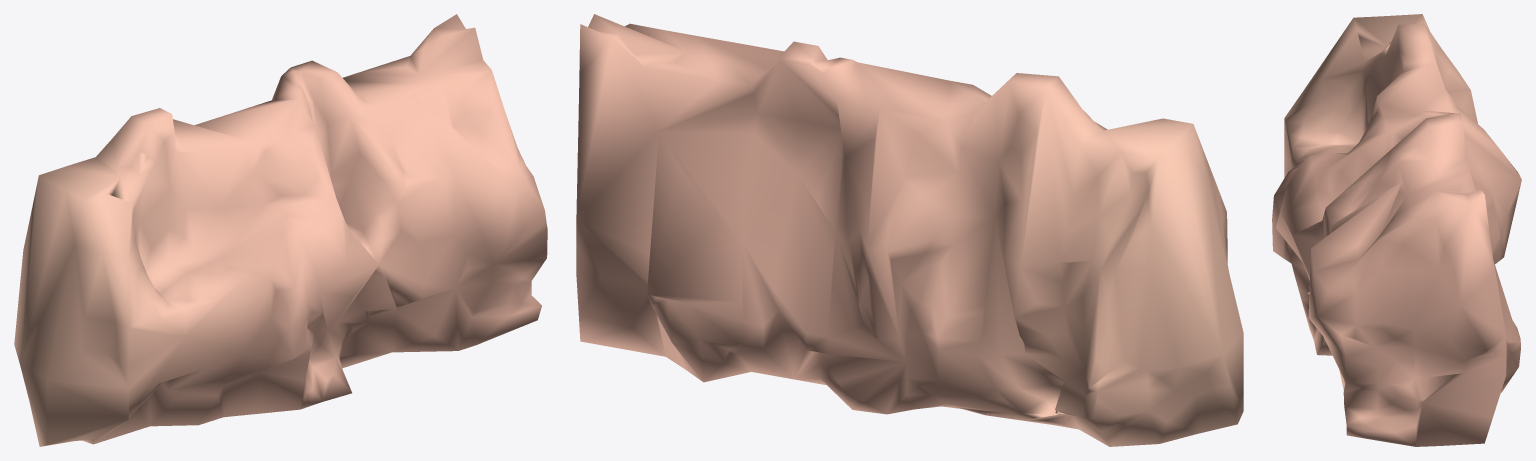
The model's file is Wall_stones.fbx.
3 views of the same model, side by side, from view 1: azimuth 30°, elevation 25°; view 2: azimuth 150°, elevation 25°; view 3: azimuth 270°, elevation 25° (orthographic). The views are drawn at different scales.
Visible parts, largest first — view 1: Wall_stones; view 2: Wall_stones; view 3: Wall_stones.
Part boxes in pixels (<box>): Wall_stones: <box>14,14,547,446</box>; Wall_stones: <box>576,14,1243,446</box>; Wall_stones: <box>1272,14,1521,446</box>.
Size of the model in its own units: 3.89 by 2.03 by 1.79.
